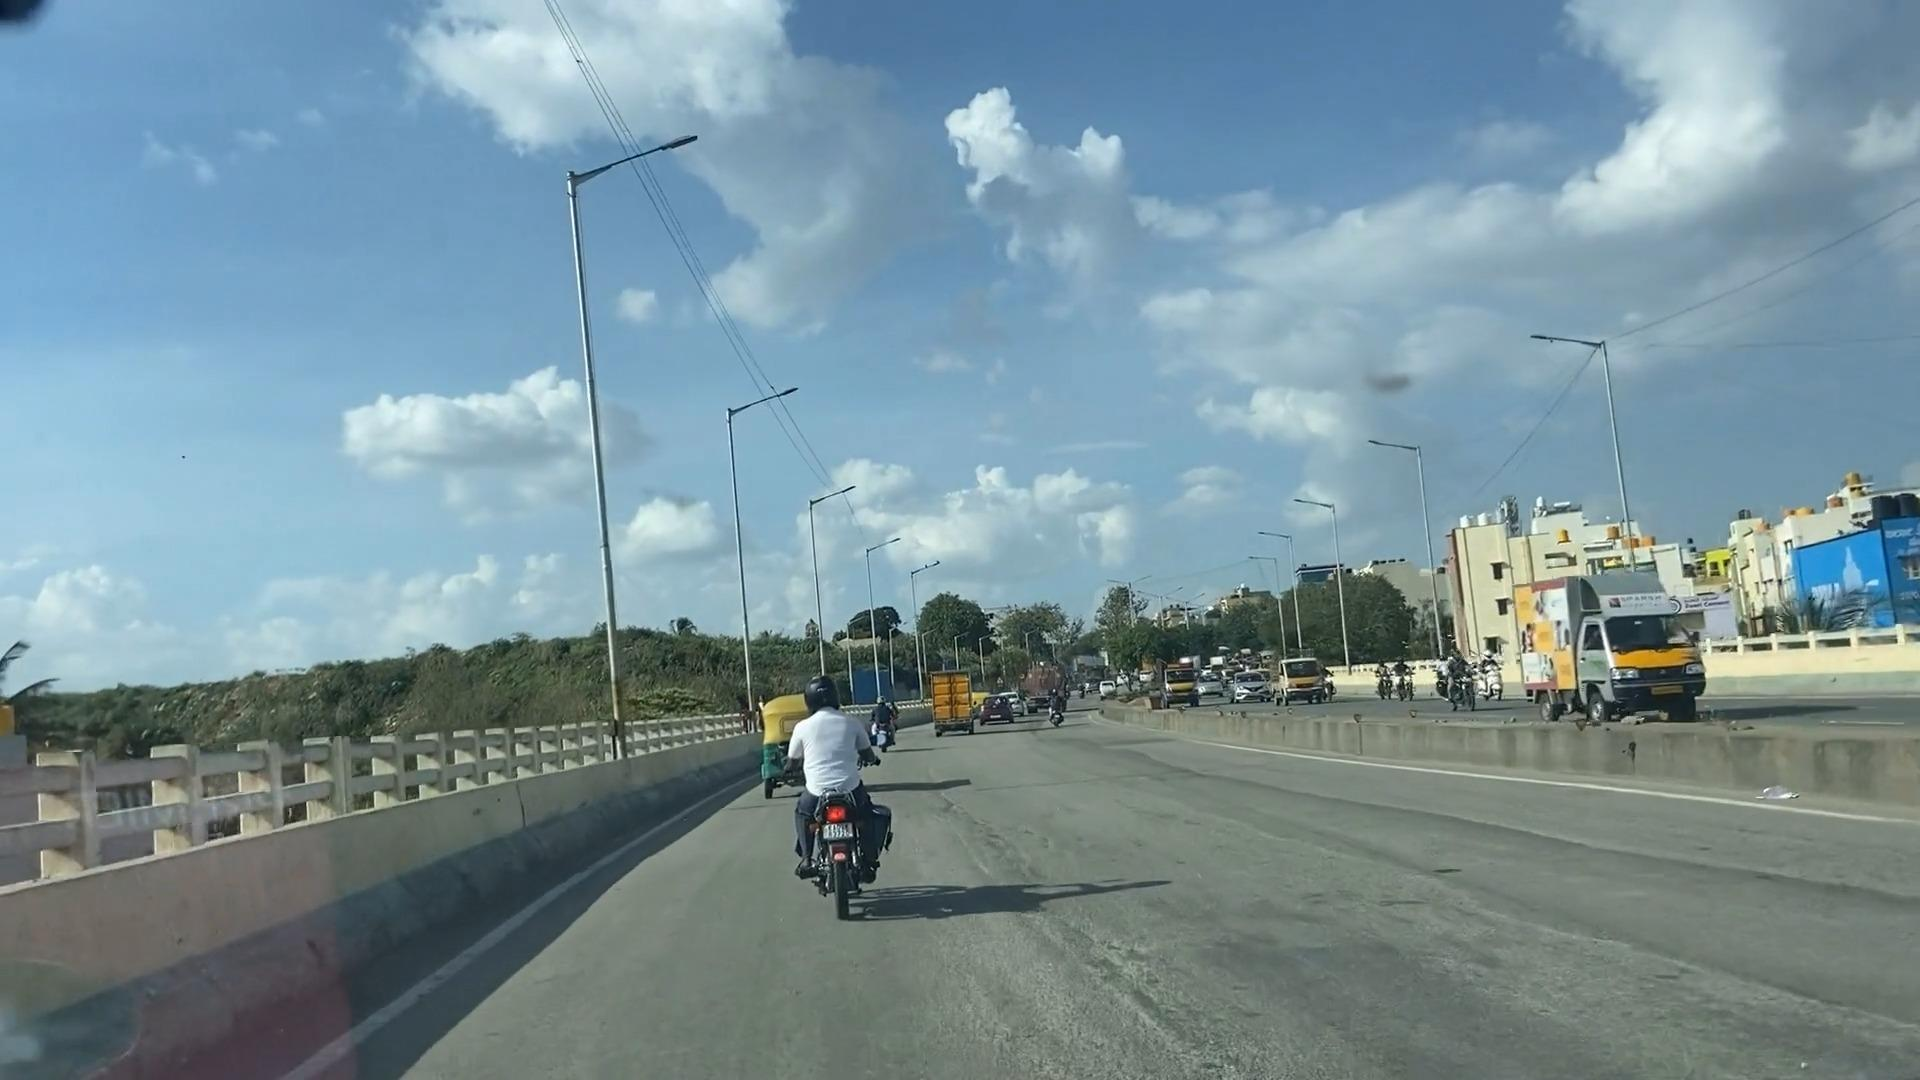HMV: (1510, 566, 1709, 720)
